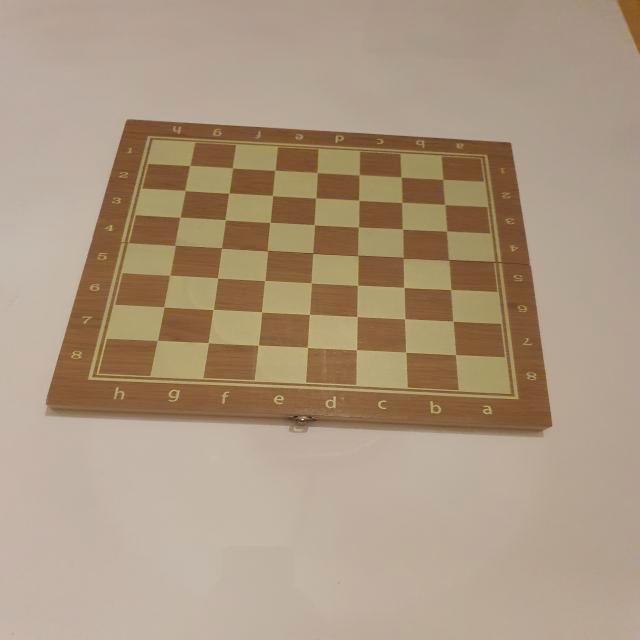chess-table-corners: (497, 384, 532, 410), (74, 363, 108, 389), (470, 150, 495, 167), (140, 132, 162, 146)
